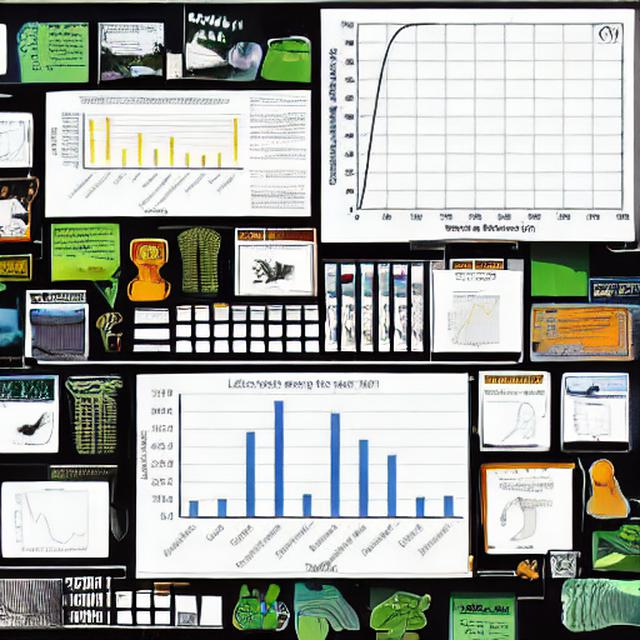Graph: (323, 11, 633, 237), (137, 375, 467, 574), (51, 95, 247, 212), (1, 483, 106, 555), (438, 292, 514, 349), (568, 402, 620, 438), (35, 322, 85, 352)
